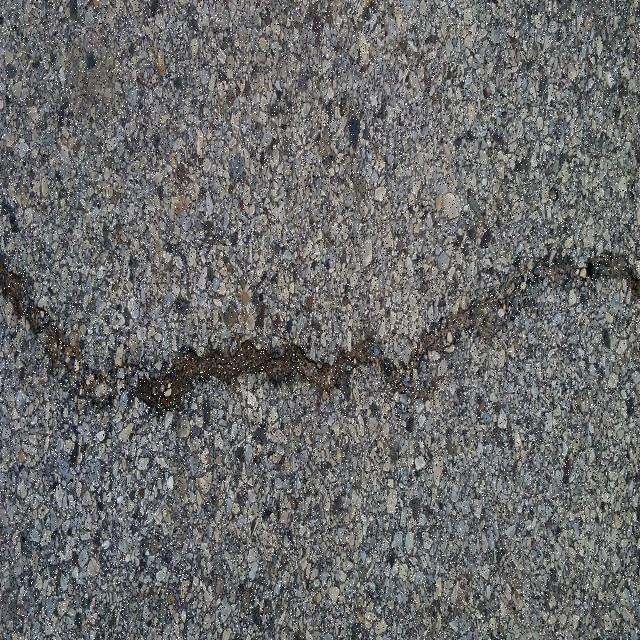Crack: (0, 253, 640, 413)
